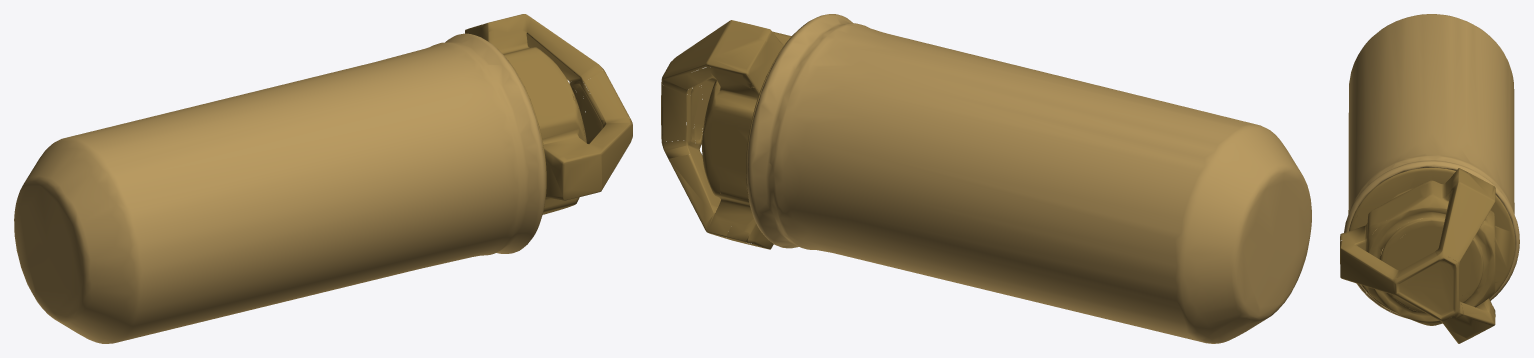
3 views of the same model, side by side, from view 1: azimuth 30°, elevation 25°; view 2: azimuth 150°, elevation 25°; view 3: azimuth 270°, elevation 25° (orthographic). The views are drawn at different scales.
Visible parts, largest first — view 1: CapsuleBody, CapsuleCap; view 2: CapsuleBody, CapsuleCap; view 3: CapsuleBody, CapsuleCap.
Part boxes in pixels (left/top/right/bottom): CapsuleBody: left=14, top=33, right=545, bottom=343; CapsuleCap: left=465, top=14, right=632, bottom=214; CapsuleBody: left=746, top=14, right=1311, bottom=343; CapsuleCap: left=661, top=20, right=794, bottom=249; CapsuleBody: left=1344, top=14, right=1519, bottom=318; CapsuleCap: left=1340, top=167, right=1515, bottom=343.
Bounding box in the file's own units: 1.05 × 0.37 × 0.3719.
